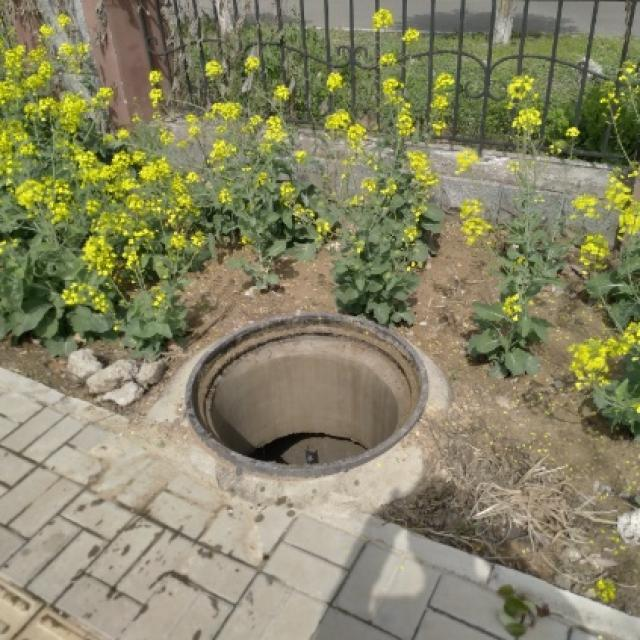Faulty: (171, 314, 445, 484)
